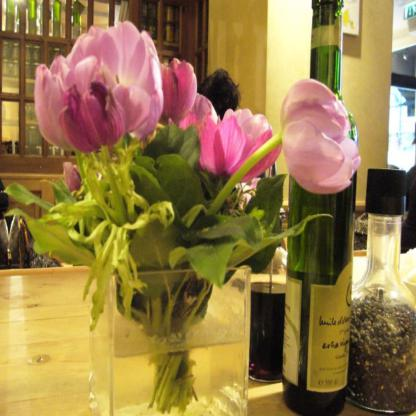vase: (88, 264, 250, 414)
